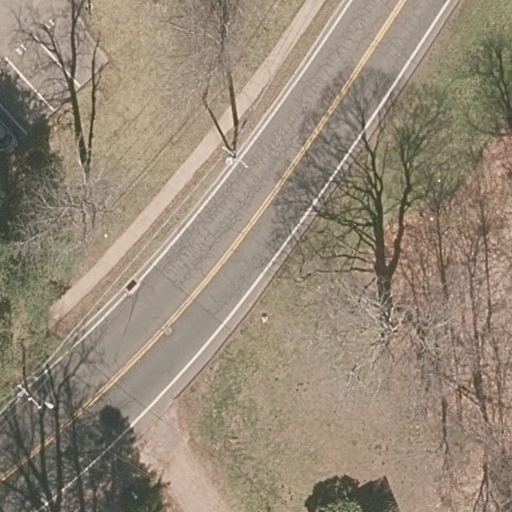DT: (220, 143, 250, 169)
